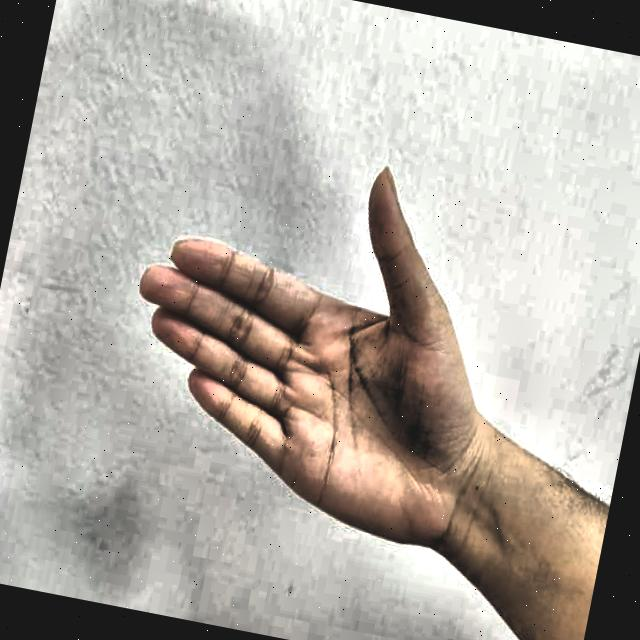Aa: (80, 97, 512, 568)
